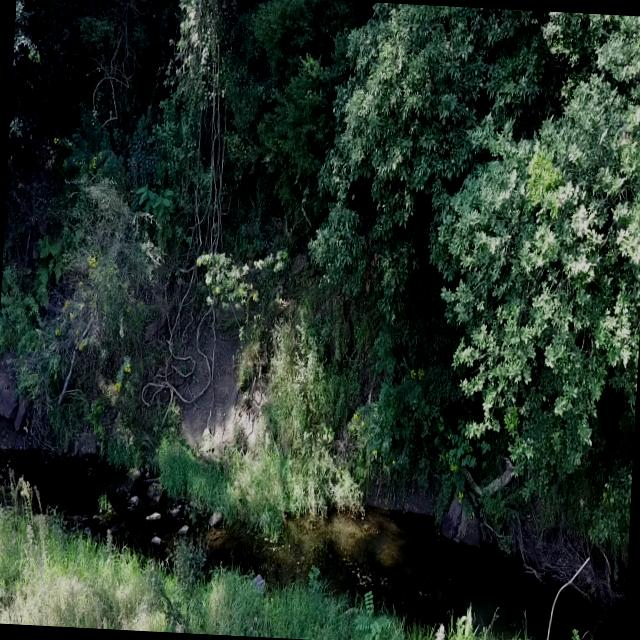Mysore-Thorn-Weed: (126, 178, 187, 236)
